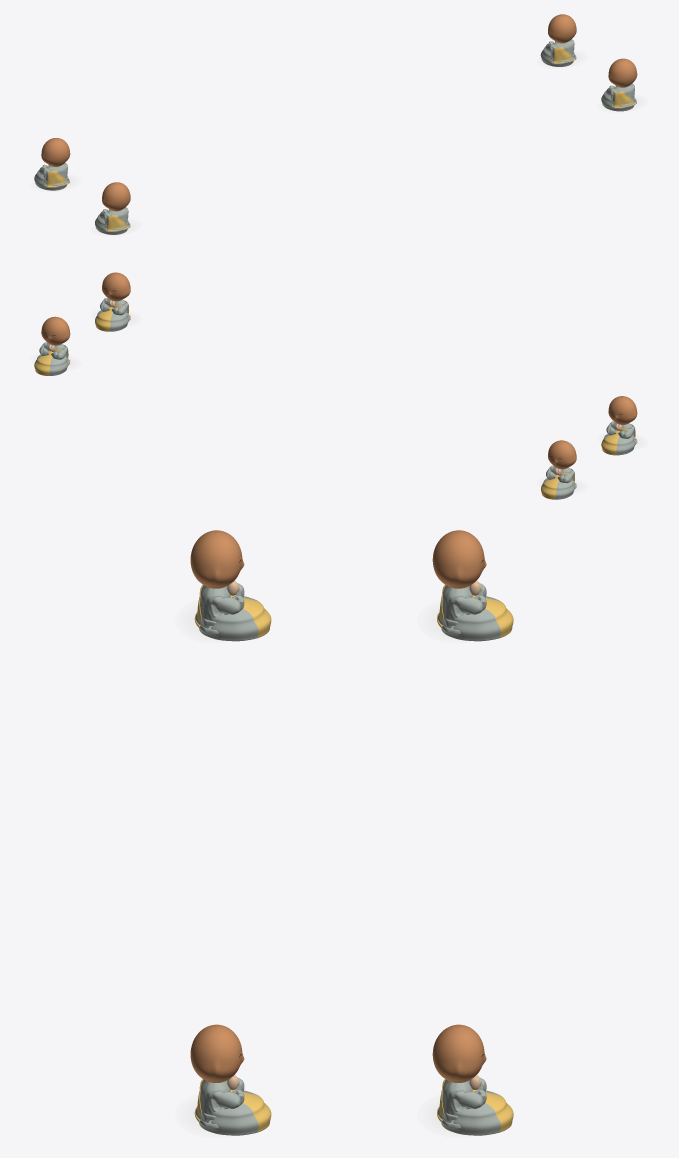
The model's file is residents.gltf.
3 views of the same model, one above another, from view 1: azimuth 30°, elevation 25°; view 2: azimuth 150°, elevation 25°; view 3: azimuth 270°, elevation 25° (orthographic). The views are drawn at different scales.
Visible parts, largest first — view 1: Sculpted_smiling_novice_head (×4), One_continuous_soft_robe (×2); view 2: Sculpted_smiling_novice_head (×4); view 3: Sculpted_smiling_novice_head (×4), One_rounded_resting_robe_hem_1 (×4), One_continuous_soft_robe (×4).
Part boxes in pixels (box(x1,y1,x2,y2)): Sculpted_smiling_novice_head (×4): box(41, 14, 637, 211); One_continuous_soft_robe (×2): box(100, 39, 576, 232); Sculpted_smiling_novice_head (×4): box(41, 272, 637, 469); Sculpted_smiling_novice_head (×4): box(190, 530, 486, 1082); One_rounded_resting_robe_hem_1 (×4): box(195, 596, 500, 1135); One_continuous_soft_robe (×4): box(199, 583, 486, 1128).
Size of the model in its own units: 11.05 by 0.9241 by 2.95.
